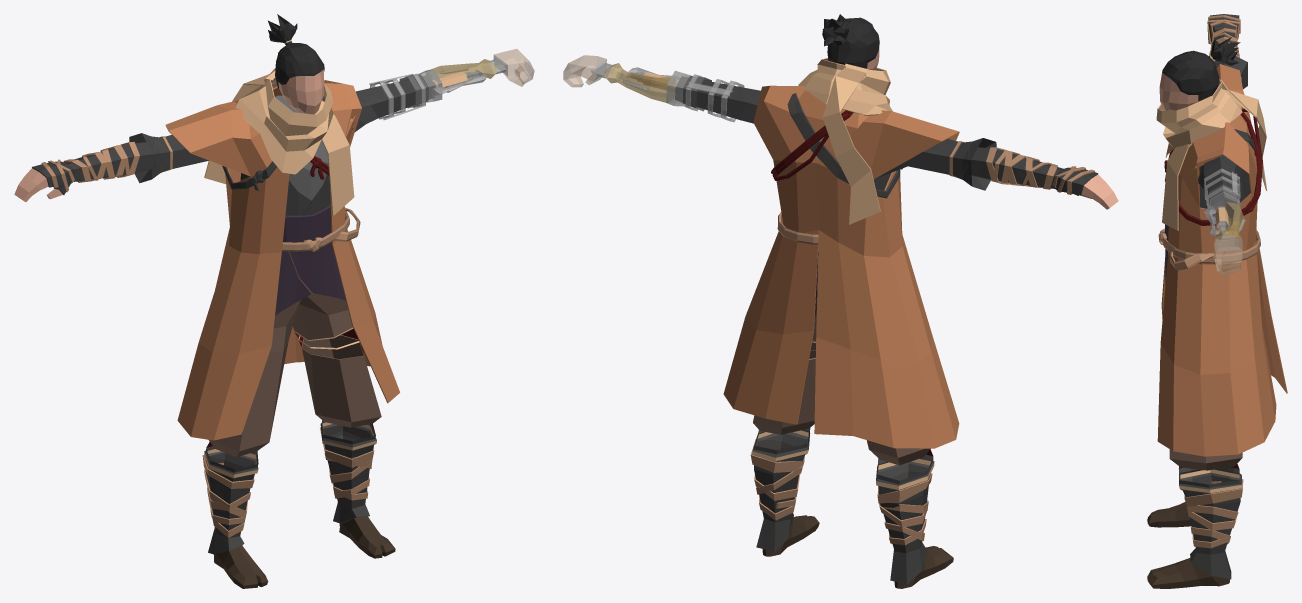
File: Sekiro_ 2_8.fbx
3 views of the same model, side by side, from view 1: azimuth 30°, elevation 25°; view 2: azimuth 150°, elevation 25°; view 3: azimuth 270°, elevation 25° (orthographic). The views are drawn at different scales.
Visible parts, largest first — view 1: Plane, Legs, Scarf, Jacket, Prosthetic, Arm.001, Cube.004, Cylinder.002, Cube.003, Arm.005, Cylinder.004, Hand (+1 smaller); view 2: Plane, Legs, Scarf, Prosthetic, Arm.001, Cylinder.002, Arm.005, Cube.004, Cube.003, Cylinder.004, Cube.000, Hand (+1 smaller); view 3: Plane, Scarf, Legs, Prosthetic, Cube.004, Cube.003, Cylinder.002, Cube.002, Arm.005, Cube.006, Cylinder, Jacket (+4 smaller).
Boxes of the visible parts, x1=… form: Plane: x1=165, y1=80, x2=399, y2=440; Legs: x1=204, y1=293, x2=381, y2=554; Scarf: x1=204, y1=68, x2=354, y2=215; Jacket: x1=240, y1=95, x2=345, y2=315; Prosthetic: x1=369, y1=49, x2=534, y2=120; Arm.001: x1=64, y1=133, x2=208, y2=183; Cube.004: x1=275, y1=40, x2=324, y2=114; Cylinder.002: x1=202, y1=427, x2=374, y2=537; Cube.003: x1=213, y1=516, x2=395, y2=588; Arm.005: x1=352, y1=75, x2=434, y2=131; Cylinder.004: x1=63, y1=141, x2=139, y2=182; Hand: x1=14, y1=161, x2=73, y2=201; Plane: x1=723, y1=85, x2=959, y2=448; Legs: x1=752, y1=298, x2=934, y2=584; Scarf: x1=798, y1=57, x2=892, y2=224; Prosthetic: x1=563, y1=55, x2=744, y2=122; Arm.001: x1=876, y1=138, x2=1063, y2=190; Cylinder.002: x1=750, y1=439, x2=932, y2=545; Arm.005: x1=675, y1=76, x2=760, y2=123; Cube.004: x1=827, y1=17, x2=879, y2=70; Cube.003: x1=762, y1=515, x2=953, y2=588; Cylinder.004: x1=986, y1=147, x2=1057, y2=189; Cube.000: x1=787, y1=93, x2=902, y2=198; Hand: x1=1054, y1=167, x2=1118, y2=209; Plane: x1=1157, y1=64, x2=1287, y2=456; Scarf: x1=1156, y1=79, x2=1267, y2=230; Legs: x1=1169, y1=449, x2=1242, y2=579; Prosthetic: x1=1204, y1=168, x2=1245, y2=275; Cube.004: x1=1159, y1=50, x2=1219, y2=110; Cube.003: x1=1147, y1=502, x2=1229, y2=588; Cylinder.002: x1=1184, y1=479, x2=1243, y2=548; Cube.002: x1=1158, y1=228, x2=1260, y2=270; Arm.005: x1=1198, y1=155, x2=1240, y2=217; Cube.006: x1=1164, y1=108, x2=1262, y2=225; Cylinder: x1=1211, y1=37, x2=1240, y2=65; Jacket: x1=1165, y1=167, x2=1250, y2=284.
Bounding box in the file's own units: 186 × 182 × 45.04.
